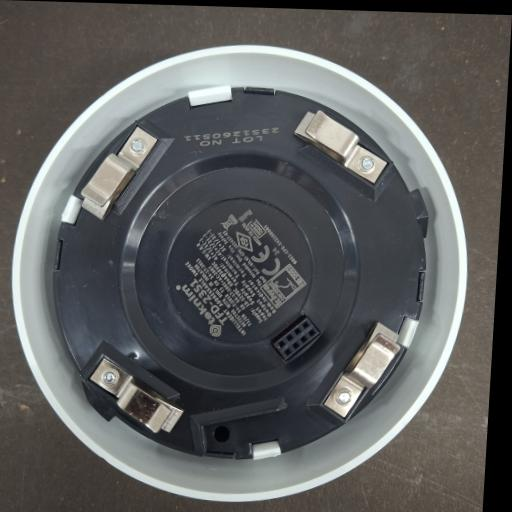yayli: (321, 319, 405, 424), (84, 357, 188, 437), (80, 124, 160, 222), (290, 108, 392, 184)
